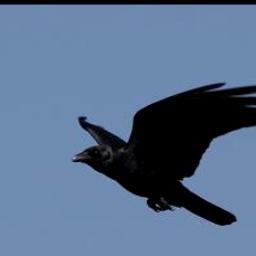Crow: (69, 79, 256, 226)
